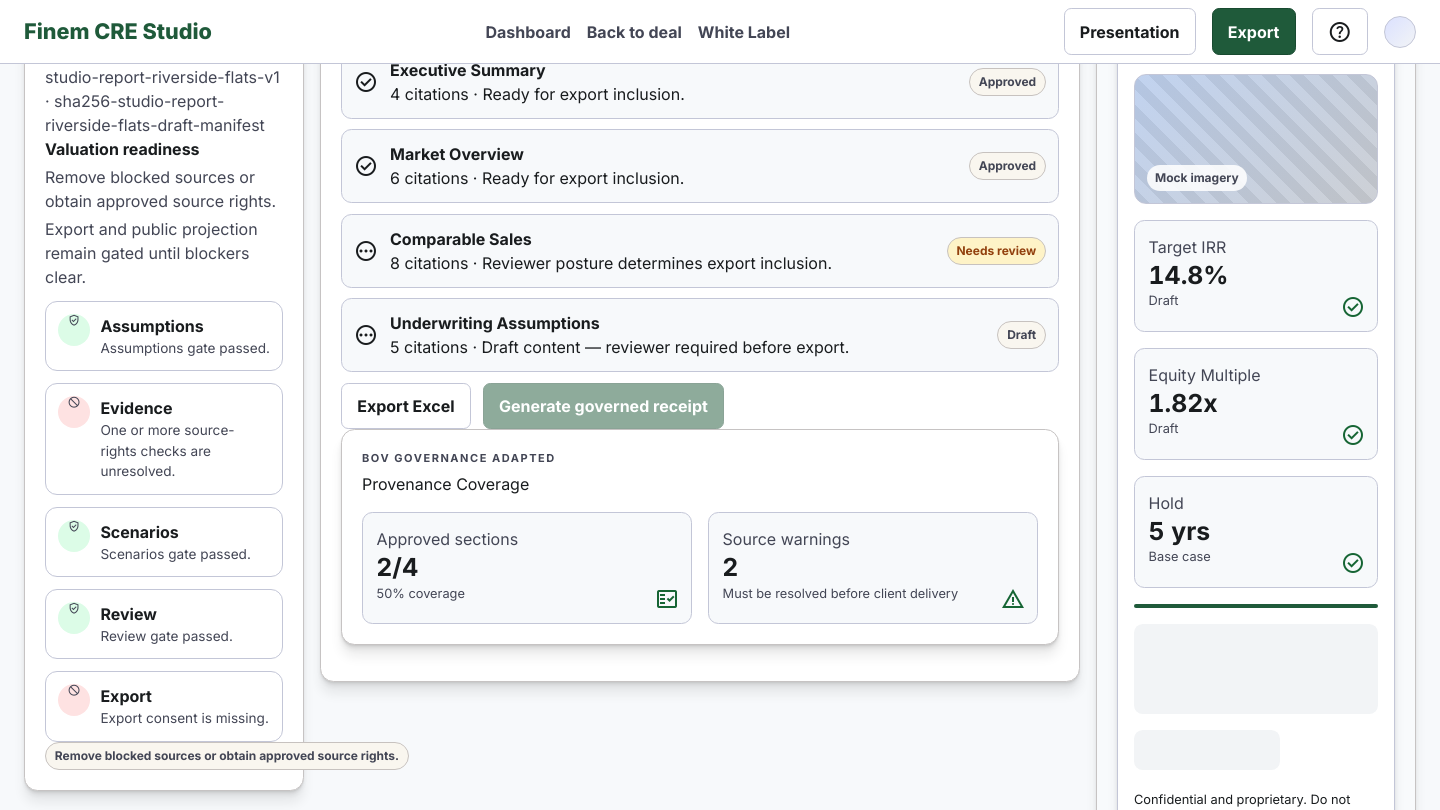
prototype CTA feedback › explains simulated report builder export actions
The image size is (1440, 810).
(page scrolled)
Click the button "Export Excel": click(406, 406) [341,382,471,429]
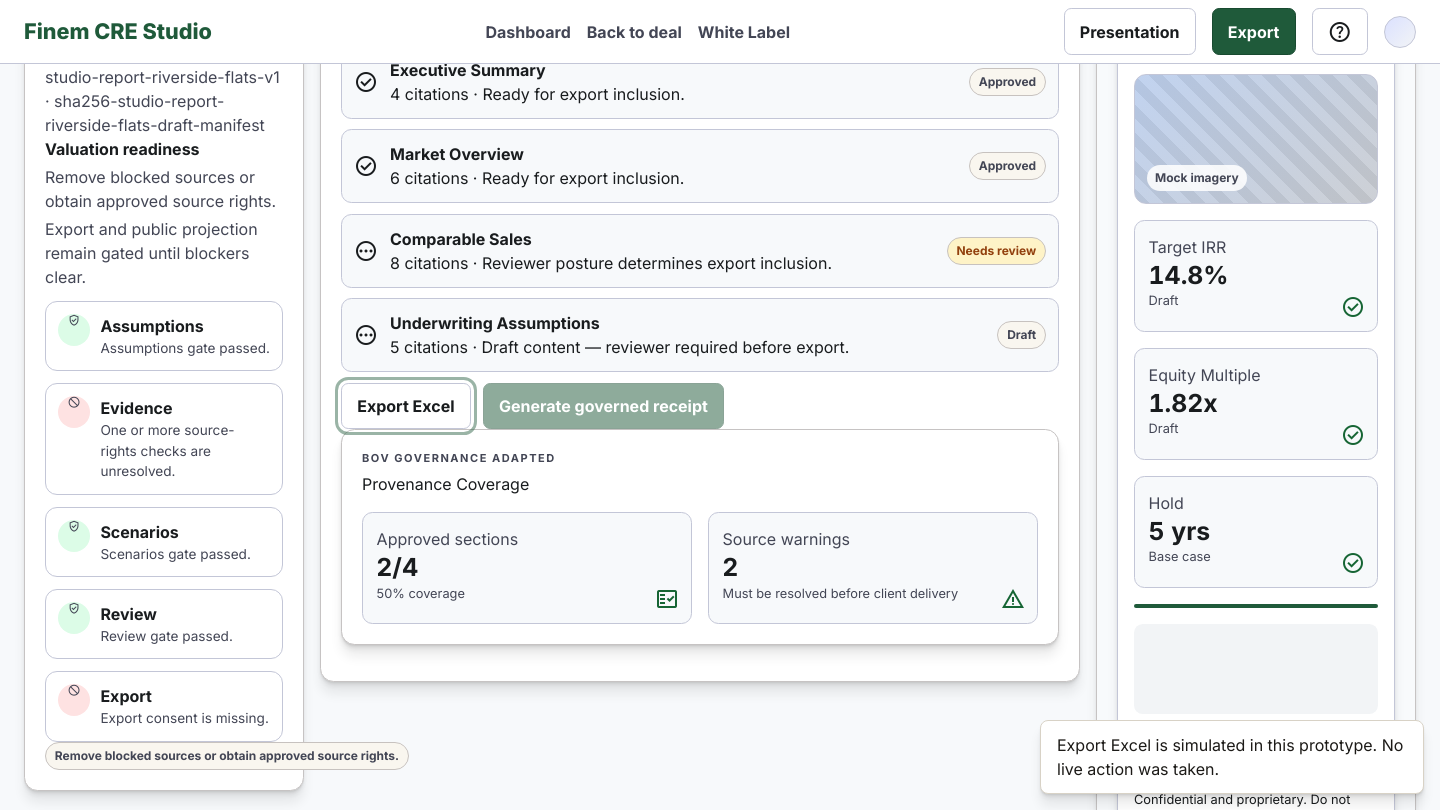
expect the text "Export Excel is simulated in this prototype. No live action was taken." is shown: met, box [1040,720,1424,794]
